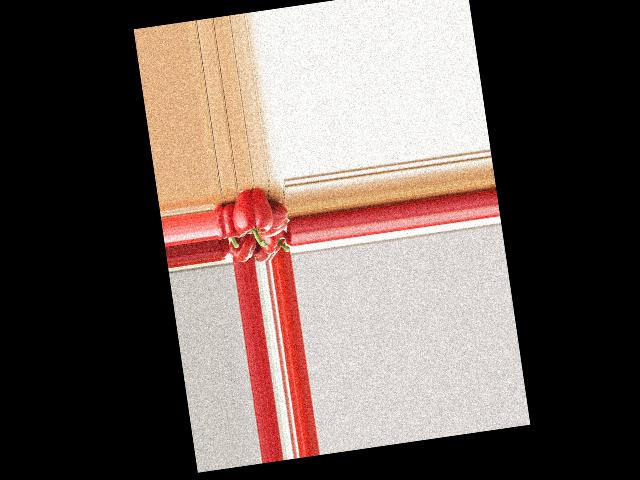bell_pepper: (259, 228, 291, 256)
